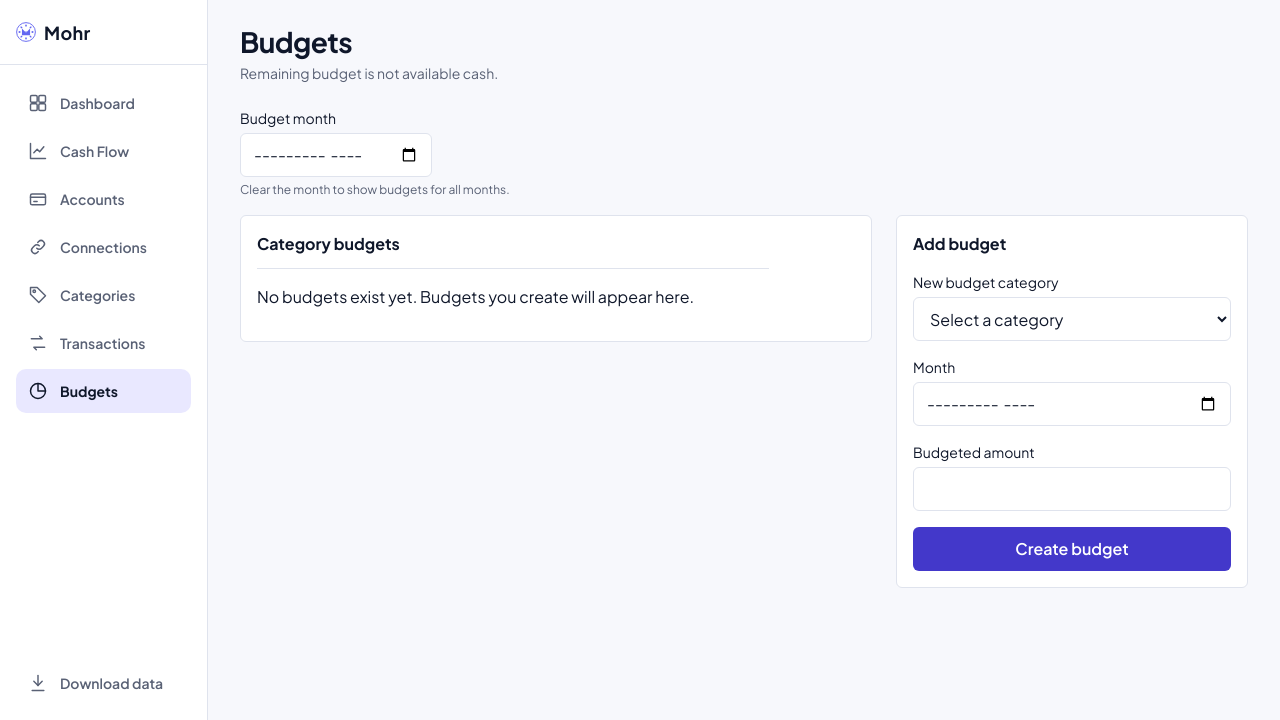
Scenario: budgets list › shows an empty state when no budgets exist yet
Expected: the text "No budgets exist yet. Budgets you create will appear here." is shown, x1=257 y1=268 x2=769 y2=309
Type "2026-09" into the field labelled "Budget month". click: (336, 155)
box: x1=240 y1=133 x2=432 y2=177
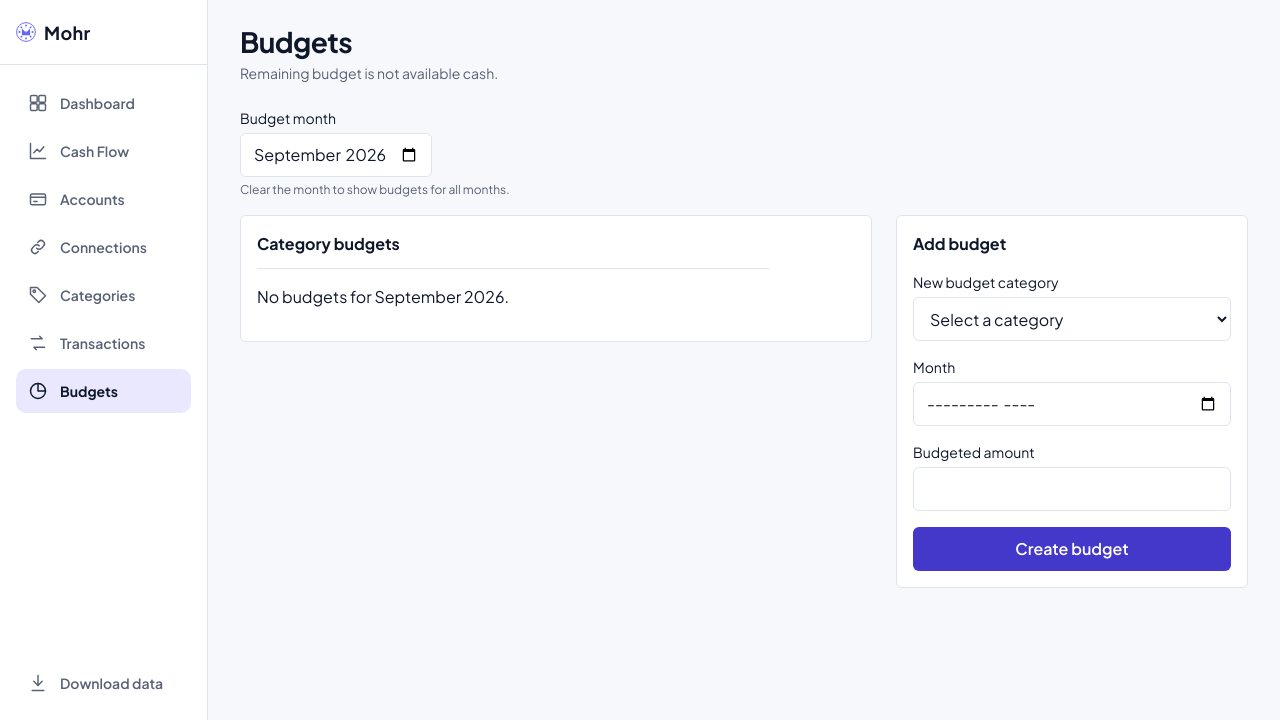
Result: the text "No budgets for September 2026." is shown at x1=257 y1=268 x2=769 y2=309
Result: the text "No budgets exist yet" is gone
Clear the field labelled "Budget month". click: (336, 155)
box: x1=240 y1=133 x2=432 y2=177
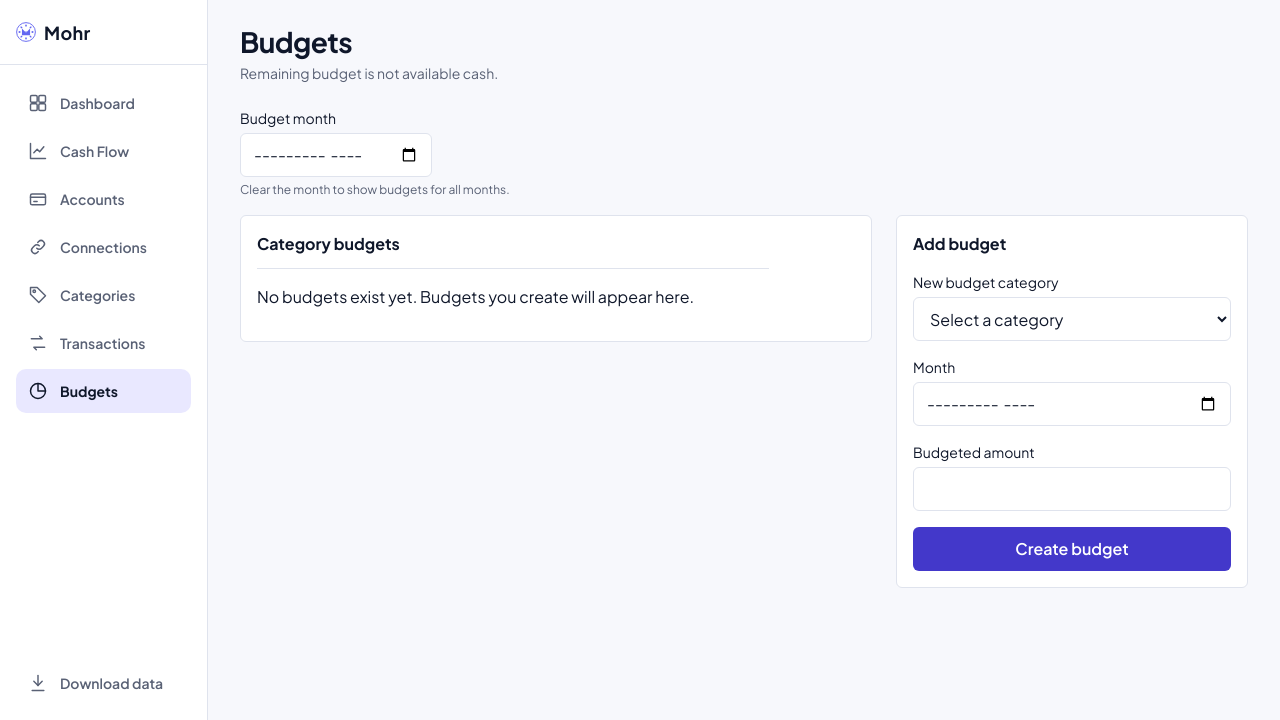
Result: the text "No budgets exist yet. Budgets you create will appear here." is shown at x1=257 y1=268 x2=769 y2=309
